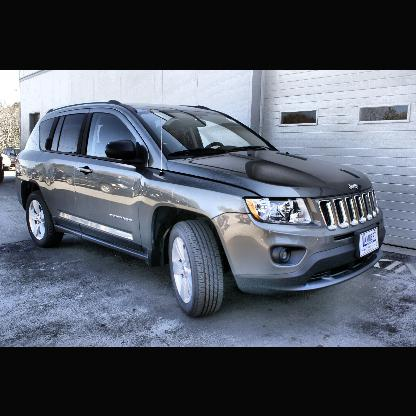Jeep Compass SUV 2012: (15, 98, 388, 318)
